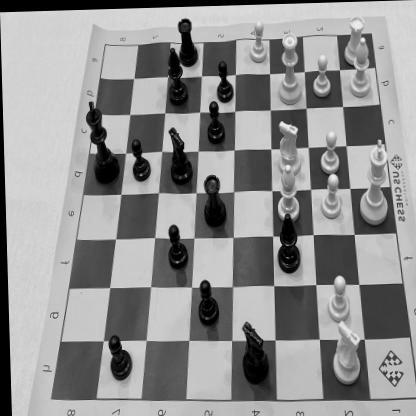black-bishop: (273, 209, 305, 276), (164, 42, 189, 110)
black-king: (83, 95, 120, 186)
black-knight: (237, 314, 268, 386), (166, 123, 194, 188)
black-pawn: (104, 326, 133, 382), (194, 274, 221, 326), (164, 218, 188, 272), (128, 133, 153, 183), (201, 98, 226, 145), (212, 56, 236, 104)
black-rook: (198, 166, 228, 228), (176, 11, 202, 69)
white-bishop: (344, 36, 376, 100), (274, 162, 300, 225)
white-king: (354, 135, 391, 226)
white-knight: (326, 316, 360, 389), (275, 116, 303, 177)
white-pawn: (324, 272, 351, 324), (318, 170, 343, 220), (247, 16, 272, 65), (308, 52, 332, 100), (318, 128, 340, 174)
white-queen: (274, 28, 302, 108)
white-rook: (342, 14, 368, 69)
